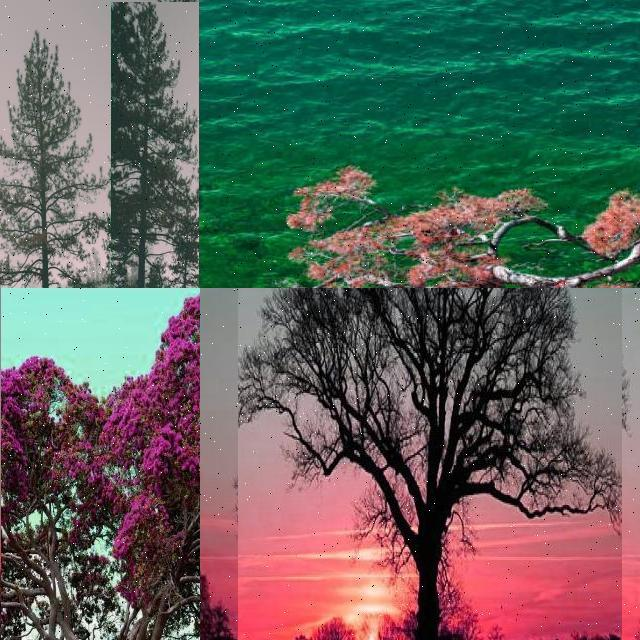tree: (238, 288, 622, 640), (0, 288, 200, 640), (244, 160, 640, 288), (0, 23, 96, 288), (111, 2, 199, 288), (200, 555, 233, 640)
